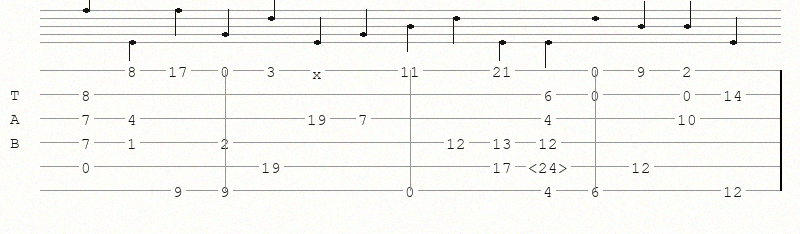0: (81, 159, 95, 173), (220, 63, 234, 77), (405, 183, 419, 197), (590, 87, 604, 101), (590, 63, 604, 77), (682, 87, 696, 101)
1: (127, 135, 141, 149)
10: (677, 111, 701, 125)
11: (400, 63, 424, 77)
12: (446, 135, 470, 149), (538, 135, 562, 149), (631, 159, 655, 173), (723, 183, 747, 197)
13: (492, 135, 516, 149)
14: (723, 87, 747, 101)
17: (168, 63, 192, 77), (492, 159, 516, 173)
19: (261, 159, 285, 173), (307, 111, 331, 125)
2: (220, 135, 234, 149), (682, 63, 696, 77)
21: (492, 63, 516, 77)
3: (266, 63, 280, 77)
4: (127, 111, 141, 125), (543, 111, 557, 125), (543, 183, 557, 197)
6: (543, 87, 557, 101), (590, 183, 604, 197)
7: (81, 111, 95, 125), (81, 135, 95, 149), (358, 111, 372, 125)
8: (81, 87, 95, 101), (127, 63, 141, 77)
9: (173, 183, 187, 197), (220, 183, 234, 197), (636, 63, 650, 77)
harmonic: (528, 159, 572, 174)
x: (312, 65, 326, 76)
